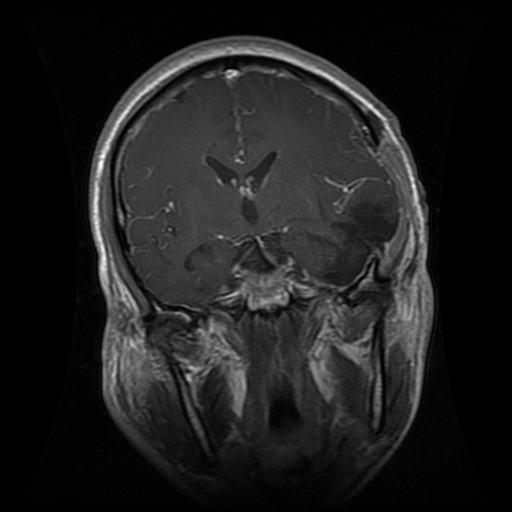glioma: (303, 194, 398, 284)
